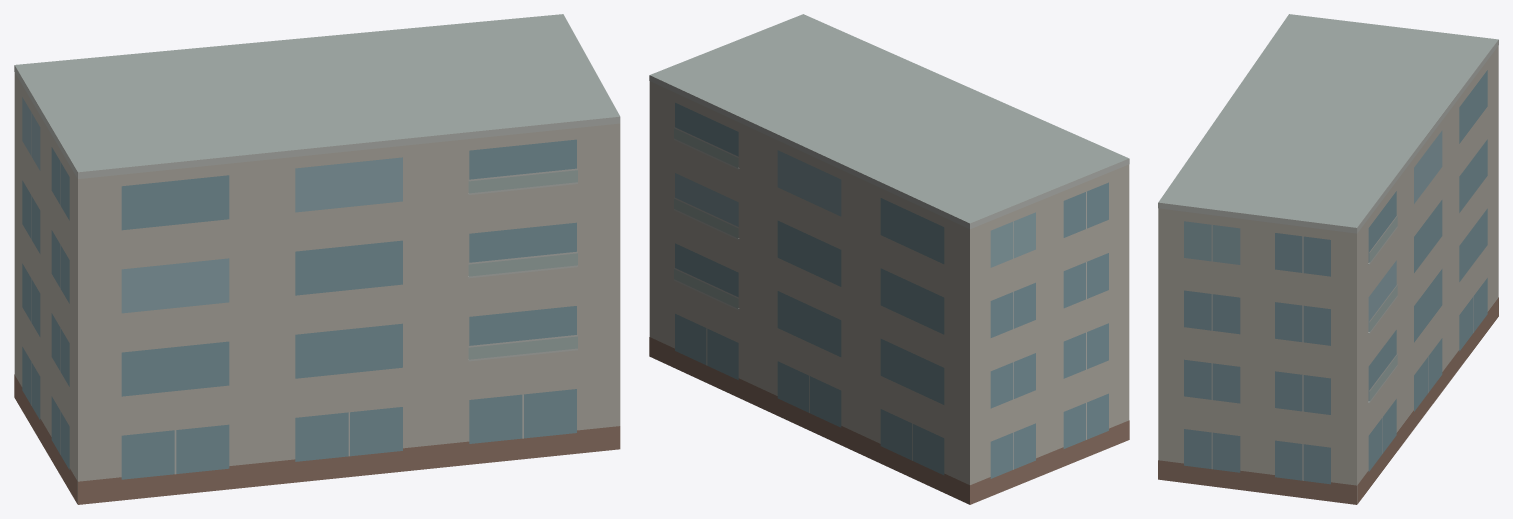
File: survey-upis-32941782.glb
The picture shows the model from 3 angles, left to right: view 1: azimuth 30°, elevation 25°; view 2: azimuth 150°, elevation 25°; view 3: azimuth 270°, elevation 25°; orthographic projection. The views are drawn at different scales.
Visible parts, largest first — view 1: survey-upis-32941782.tmp; view 2: survey-upis-32941782.tmp; view 3: survey-upis-32941782.tmp.
Boxes of the visible parts, x1,y1,x2,y2 form: survey-upis-32941782.tmp: (14,14,620,504); survey-upis-32941782.tmp: (649,14,1129,504); survey-upis-32941782.tmp: (1158,14,1498,504).
Size of the model in its own units: 19.64 by 11.85 by 13.22.
